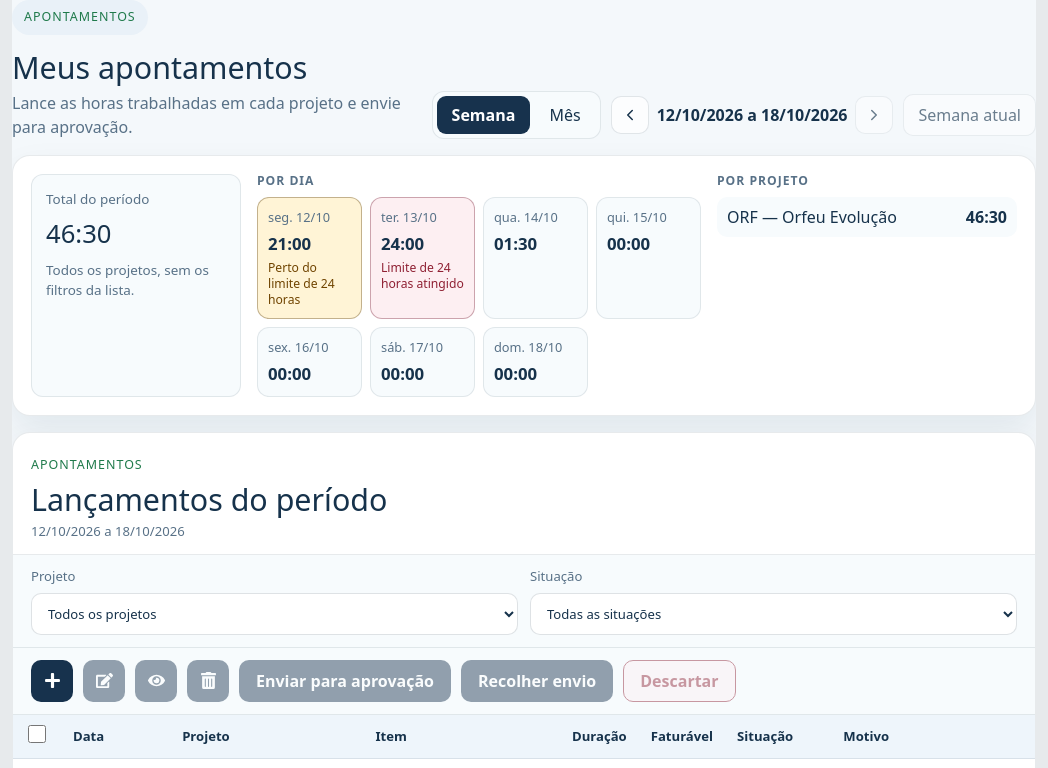
Test: Meus apontamentos › remove os lançamentos do período anterior durante a troca e não os restaura quando a consulta falha
Check: the heading "Lançamentos do período" is shown, box x1=31 y1=481 x2=387 y2=517
Step 1. Click the button named "Semana anterior" → (630, 115), box x1=611 y1=96 x2=649 y2=134
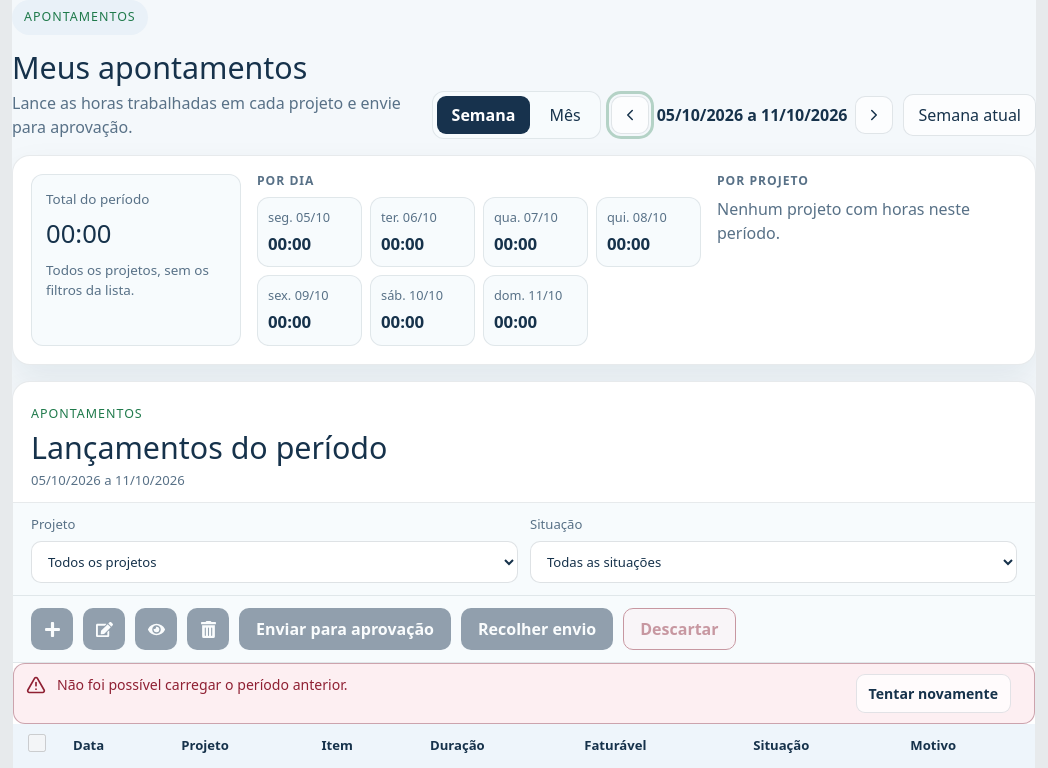
Check: the button named "Enviar para aprovação. Indisponível: Aguarde" is disabled, box x1=239 y1=608 x2=451 y2=650
Check: the text "Não foi possível carregar o período anterior." is shown, box x1=57 y1=675 x2=348 y2=694
